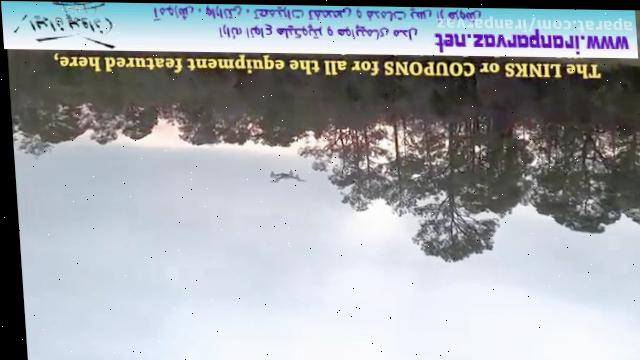drone: (263, 165, 307, 185)
